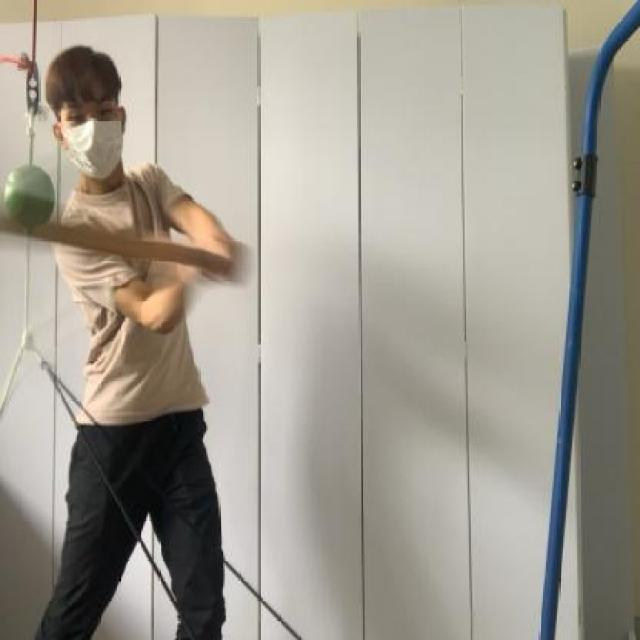baseball: (0, 150, 57, 248)
